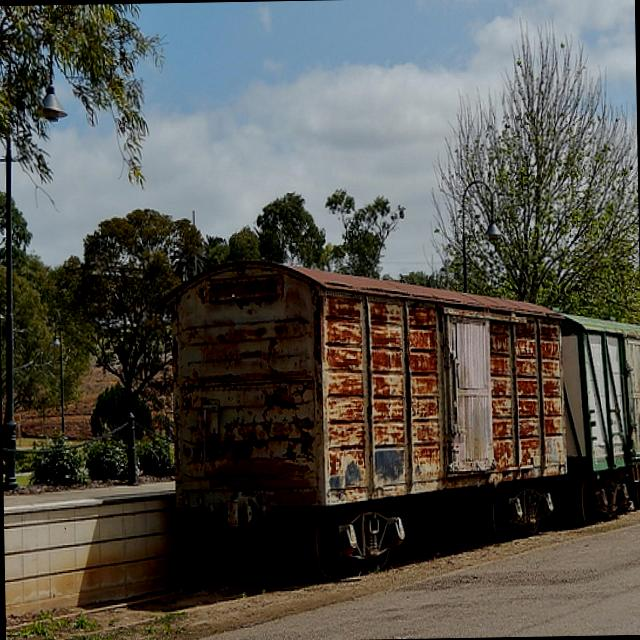Vehicle: (170, 252, 640, 569)
